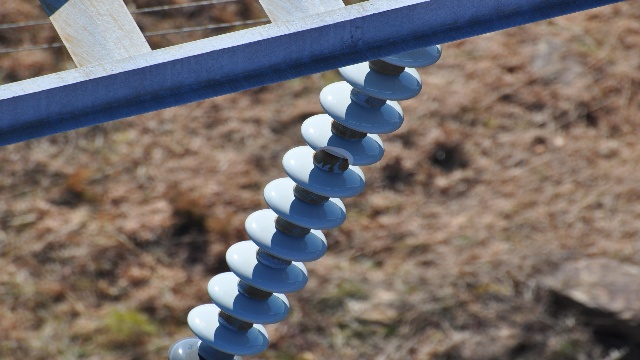broken_local: (313, 142, 357, 166)
insulator_unspecified: (168, 39, 443, 359)
